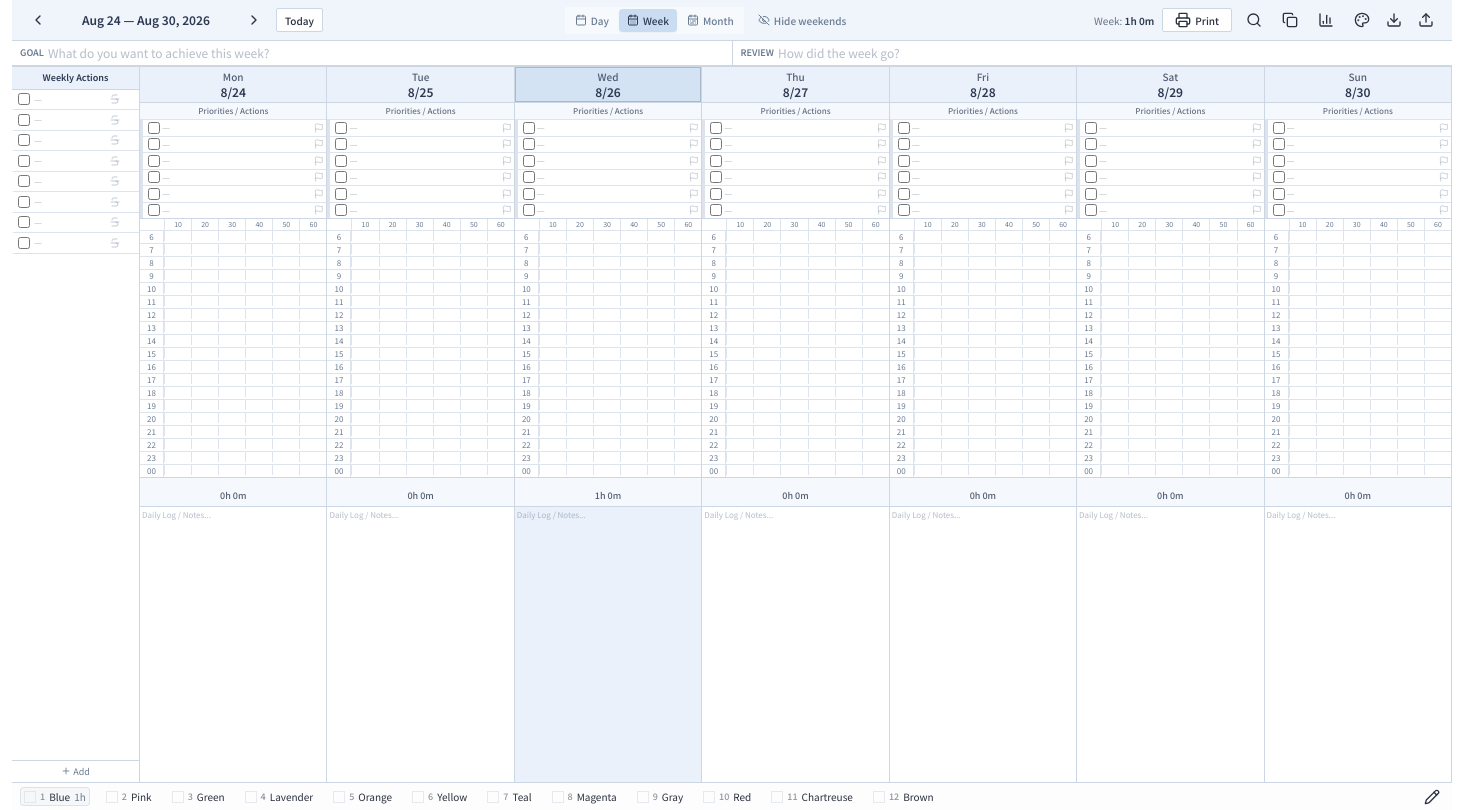
Test: marking today in the month view › survives a day that already carries a tag wash
Click the button "Month" at (710, 20), box [679,8,742,32]
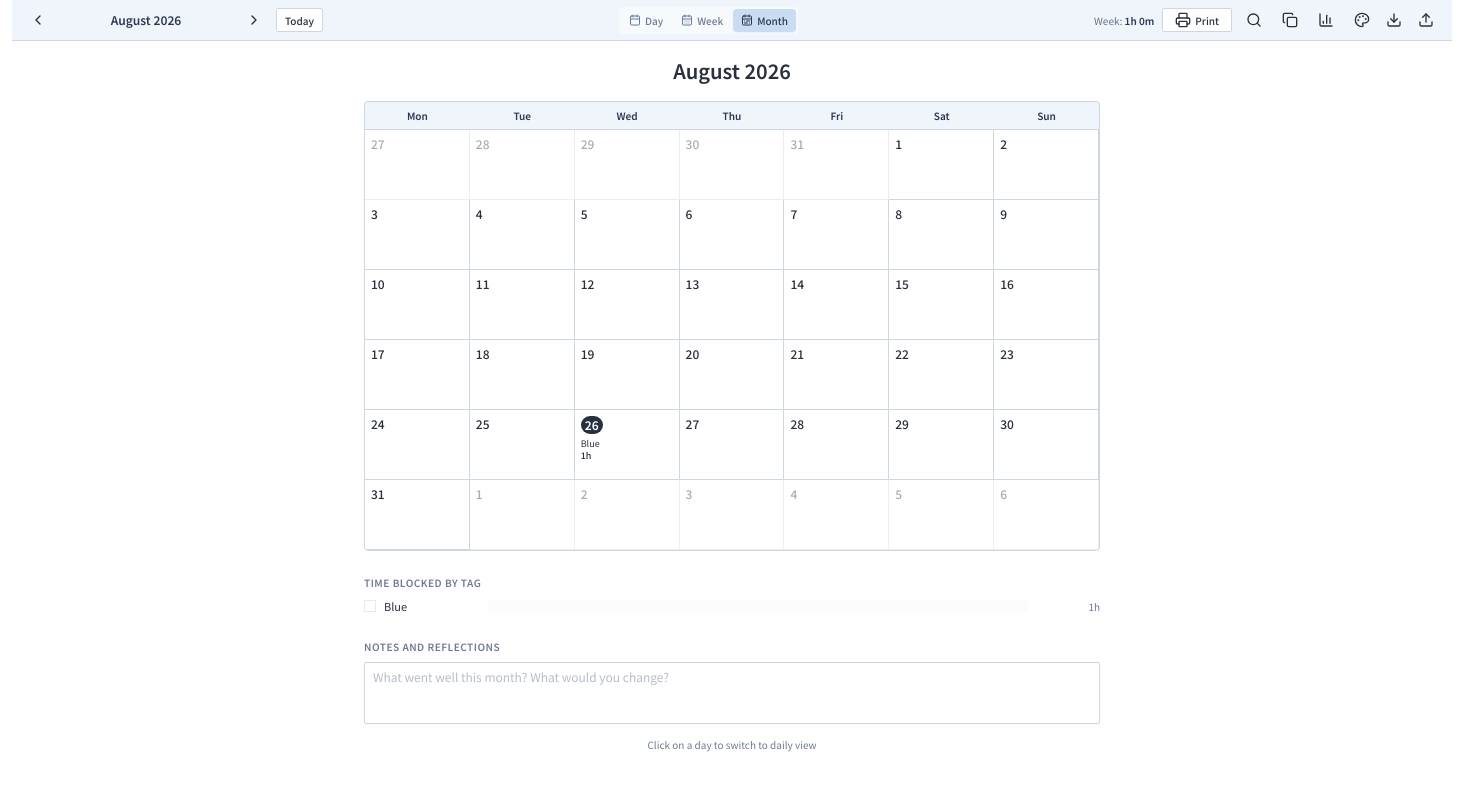
Check: the element showing "26 Blue 1h" is shown, box [575,410,680,480]
